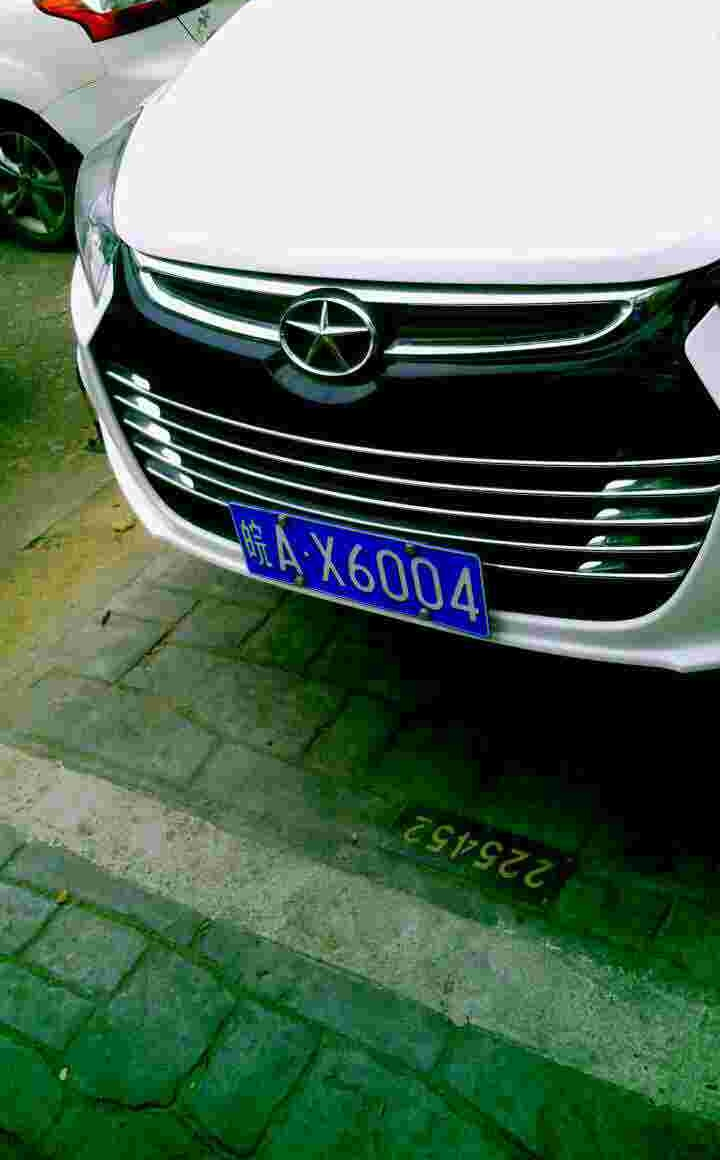license_plate: (228, 487, 488, 645)
